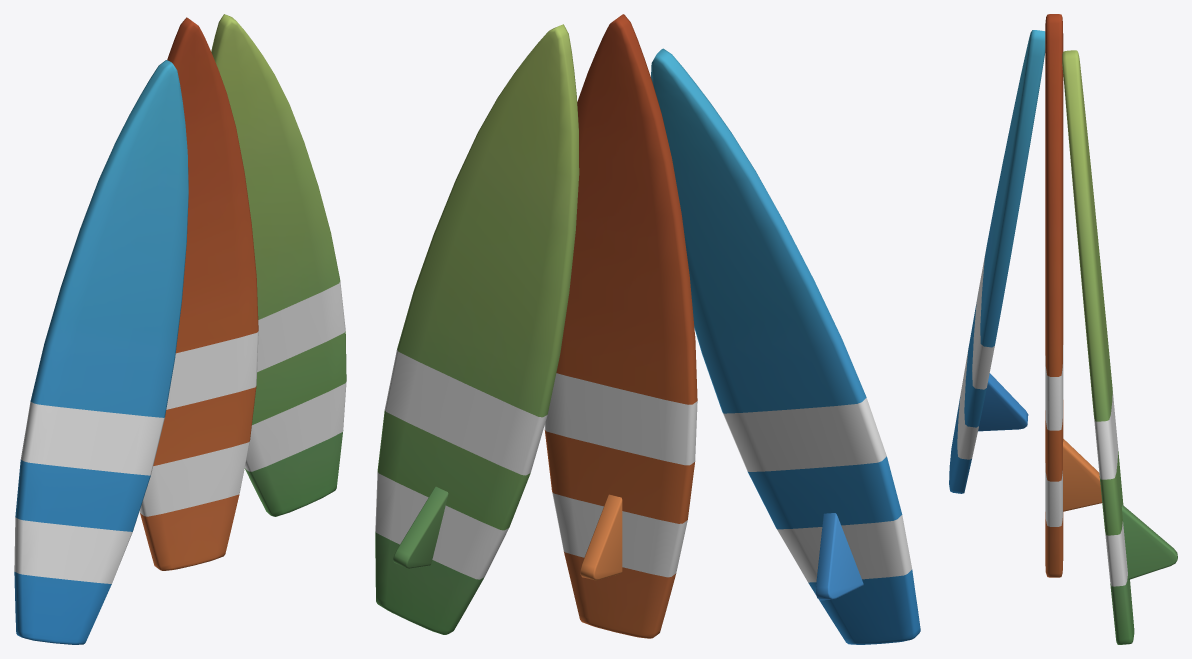
The model's file is surfboard-05.glb.
3 renders of one model, left to right at view 1: azimuth 30°, elevation 25°; view 2: azimuth 150°, elevation 25°; view 3: azimuth 270°, elevation 25°, orthographic. The views are drawn at different scales.
Parts seen in each view (by area): view 1: surfboard_05; view 2: surfboard_05; view 3: surfboard_05.
Part boxes in pixels (bbox=[...]): surfboard_05: bbox=[14, 14, 346, 644]; surfboard_05: bbox=[375, 14, 920, 644]; surfboard_05: bbox=[949, 14, 1177, 644].
Bounding box in the file's own units: 1.93 × 2.53 × 0.9429.
1 material, 1 textured.
